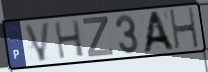3: (115, 13, 140, 55)
A: (141, 10, 177, 54)
H: (168, 6, 201, 51), (53, 18, 86, 61)
V: (23, 21, 52, 64)
Z: (82, 16, 115, 59)
